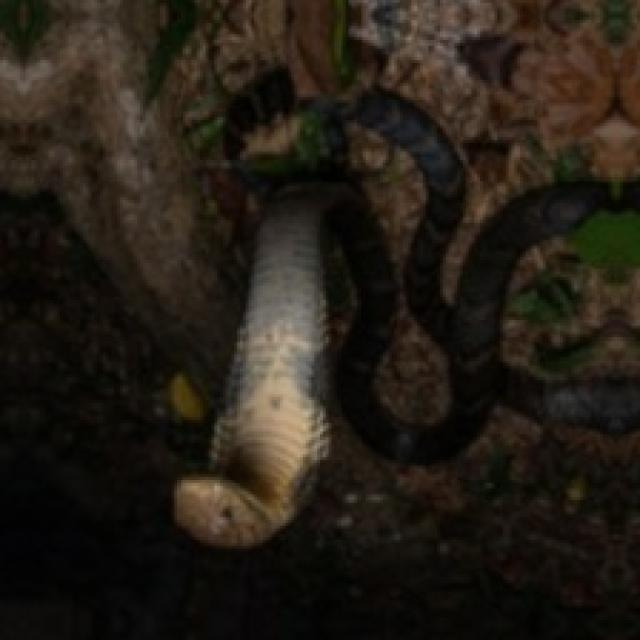king cobra: (174, 89, 606, 546)
